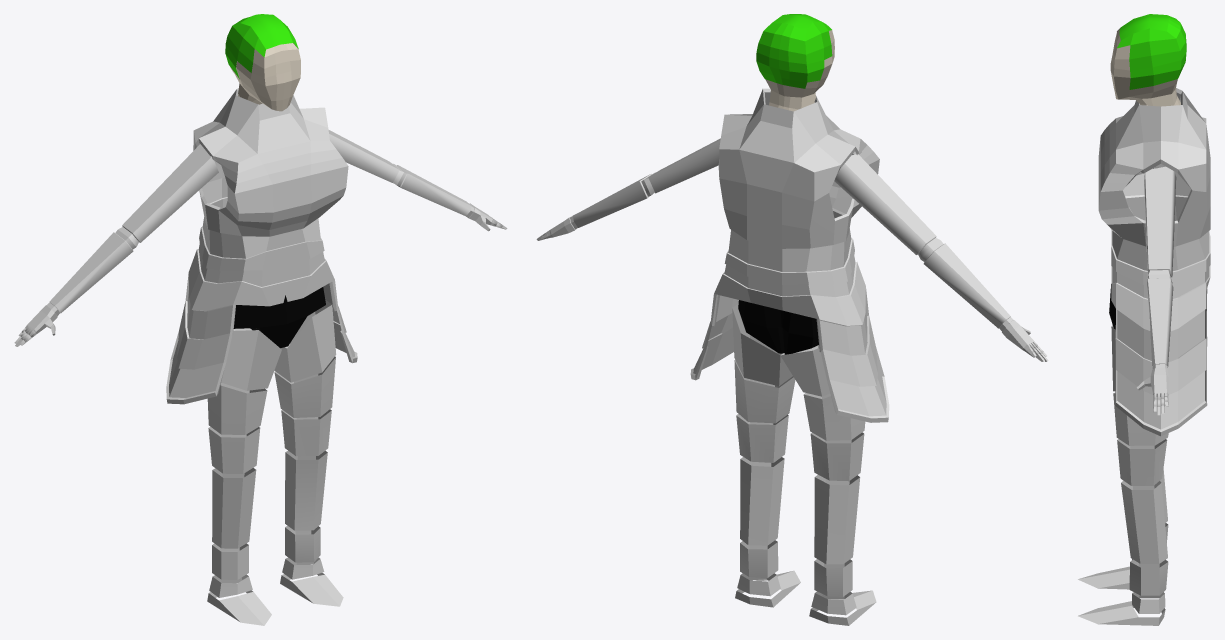
File: Soldier4.fbx
3 views of the same model, side by side, from view 1: azimuth 30°, elevation 25°; view 2: azimuth 150°, elevation 25°; view 3: azimuth 270°, elevation 25° (orthographic). The views are drawn at different scales.
Visible parts, largest first — view 1: Peitoral.001, Perneiras.001, Braço Dir.001, Body, Braço Esq.001, Cintura; view 2: Peitoral.001, Perneiras.001, Braço Dir.001, Body, Braço Esq.001, Cintura; view 3: Peitoral.001, Perneiras.001, Braço Esq.001, Body.
Boxes of the visible parts, x1,y1,x2,y2 form: Peitoral.001: (166, 88, 357, 404); Perneiras.001: (207, 300, 343, 625); Braço Dir.001: (14, 144, 218, 346); Body: (225, 14, 300, 111); Braço Esq.001: (328, 130, 507, 231); Cintura: (233, 287, 325, 348); Peitoral.001: (690, 88, 889, 422); Perneiras.001: (732, 303, 876, 625); Braço Dir.001: (834, 154, 1048, 361); Body: (756, 14, 834, 111); Braço Esq.001: (536, 138, 720, 240); Cintura: (738, 300, 818, 354); Peitoral.001: (1098, 88, 1210, 436); Perneiras.001: (1078, 324, 1168, 625); Braço Esq.001: (1136, 166, 1176, 415); Body: (1110, 14, 1186, 106).
Bounding box in the file's own units: 66.45 × 73.86 × 15.37.
